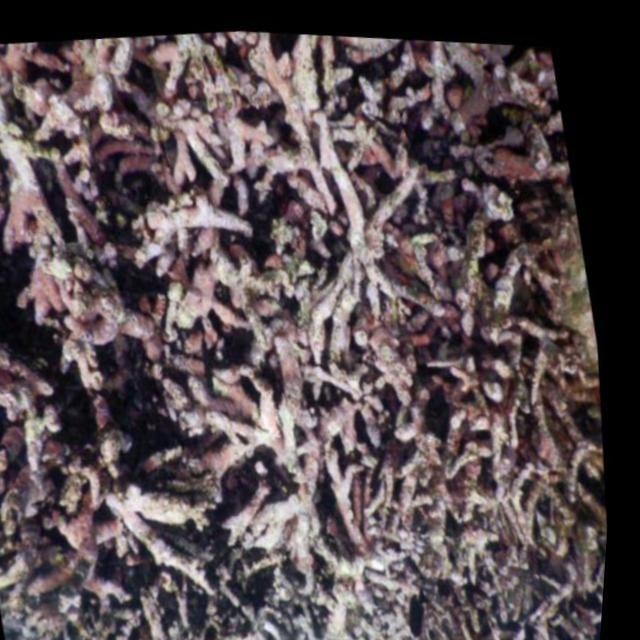Dead Coral: (0, 40, 587, 629)
